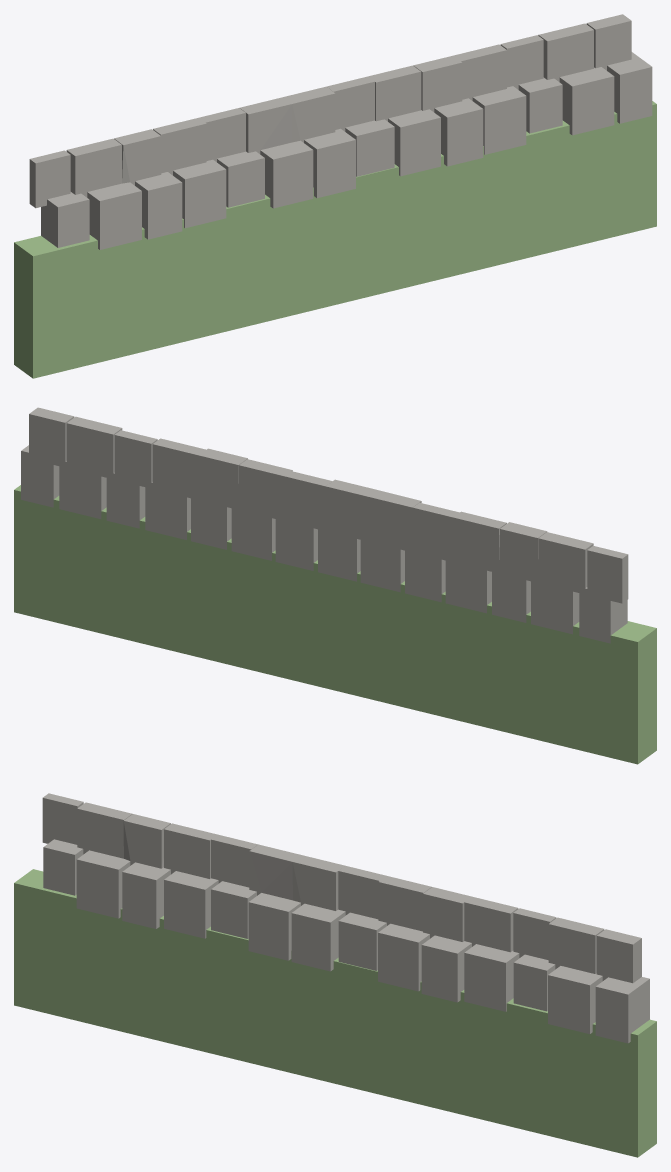
File: r-1-quinsig-riprap-shore.glb
The picture shows the model from 3 angles, top to bottom: view 1: azimuth 30°, elevation 25°; view 2: azimuth 150°, elevation 25°; view 3: azimuth 330°, elevation 25°; orthographic projection.
Parts seen in each view (by area): view 1: grass-bank, riprap; view 2: grass-bank, riprap; view 3: grass-bank, riprap.
Part boxes in pixels (x1,y1,x2,y2): grass-bank: (14, 101, 656, 378); riprap: (29, 14, 652, 249); grass-bank: (14, 485, 656, 764); riprap: (21, 407, 628, 643); grass-bank: (14, 869, 656, 1157); riprap: (42, 793, 649, 1043).
Bounding box in the file's own units: 32000 × 9900 × 1995.
